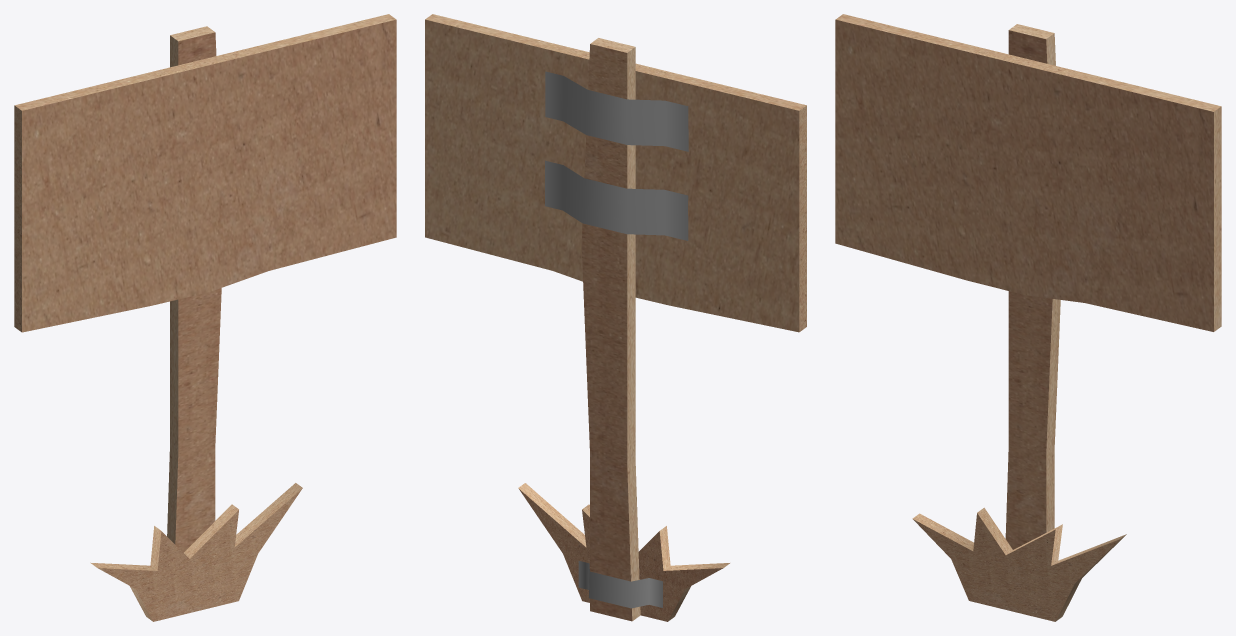
Rendered from BlankSign.fbx.
The picture shows the model from 3 angles, left to right: view 1: azimuth 30°, elevation 25°; view 2: azimuth 150°, elevation 25°; view 3: azimuth 330°, elevation 25°; orthographic projection.
Visible parts, largest first — view 1: Cardboard_Sign; view 2: Cardboard_Sign; view 3: Cardboard_Sign.
Part boxes in pixels (x1,y1,x2,y2): Cardboard_Sign: [14, 14, 396, 621]; Cardboard_Sign: [425, 14, 806, 621]; Cardboard_Sign: [835, 14, 1221, 621].
Bounding box in the file's own units: 1224 × 1772 × 91.98.
